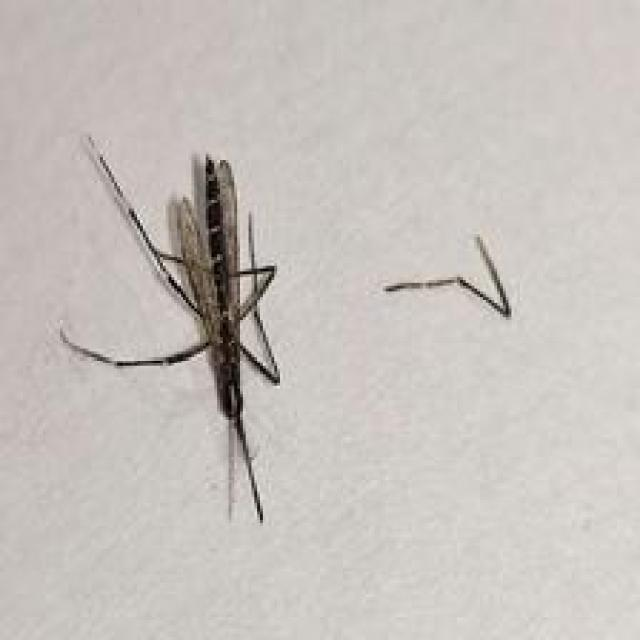Aedes albopictus: (57, 133, 283, 524)
